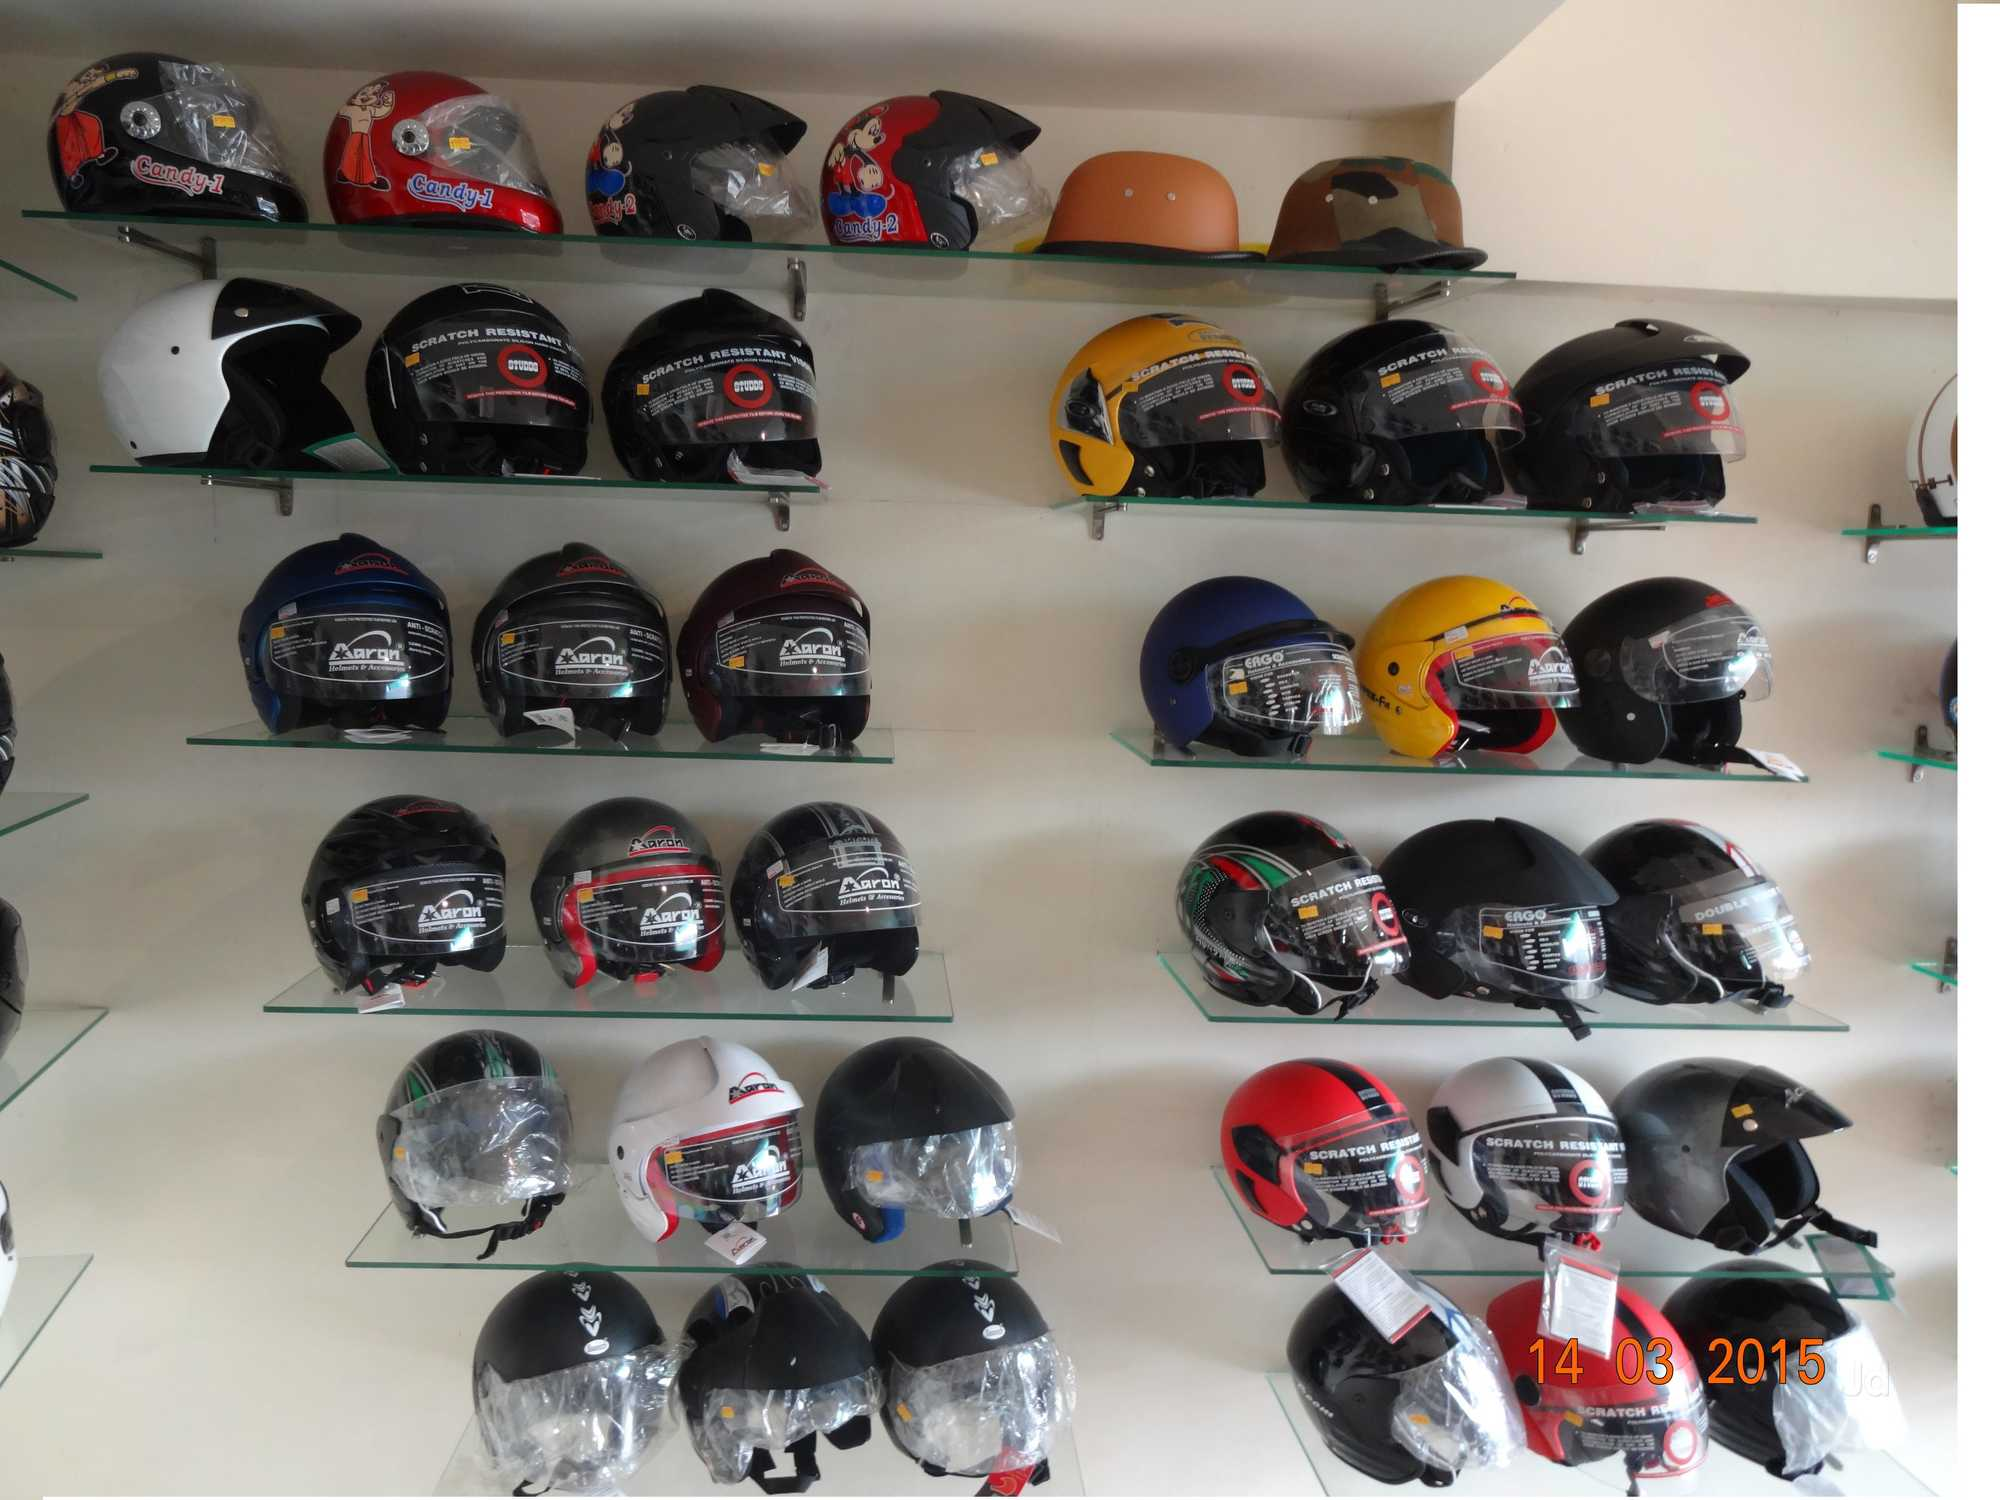with_helmet: (90, 265, 367, 473), (1167, 797, 1409, 1023), (1046, 298, 1287, 515), (43, 35, 312, 228), (1384, 810, 1620, 1030), (227, 520, 461, 734), (321, 46, 575, 243), (1294, 307, 1531, 518), (1283, 1267, 1498, 1498), (602, 276, 830, 492), (1524, 304, 1757, 514), (1613, 1056, 1847, 1261), (1361, 559, 1581, 777), (294, 786, 518, 1001), (375, 1026, 589, 1245), (1669, 1268, 1876, 1494), (367, 279, 597, 481), (872, 1267, 1072, 1498), (603, 1034, 820, 1245), (1132, 567, 1369, 761), (1587, 818, 1814, 1019), (1211, 1053, 1439, 1253), (679, 1275, 887, 1492), (1424, 1056, 1635, 1268), (469, 536, 677, 752), (471, 1265, 672, 1487), (1498, 1276, 1712, 1484), (680, 540, 885, 756), (822, 1034, 1027, 1249), (1565, 574, 1783, 777), (817, 69, 1046, 254), (734, 789, 926, 1005), (534, 788, 739, 986), (584, 69, 814, 244), (1263, 132, 1494, 265), (1043, 132, 1260, 262)
